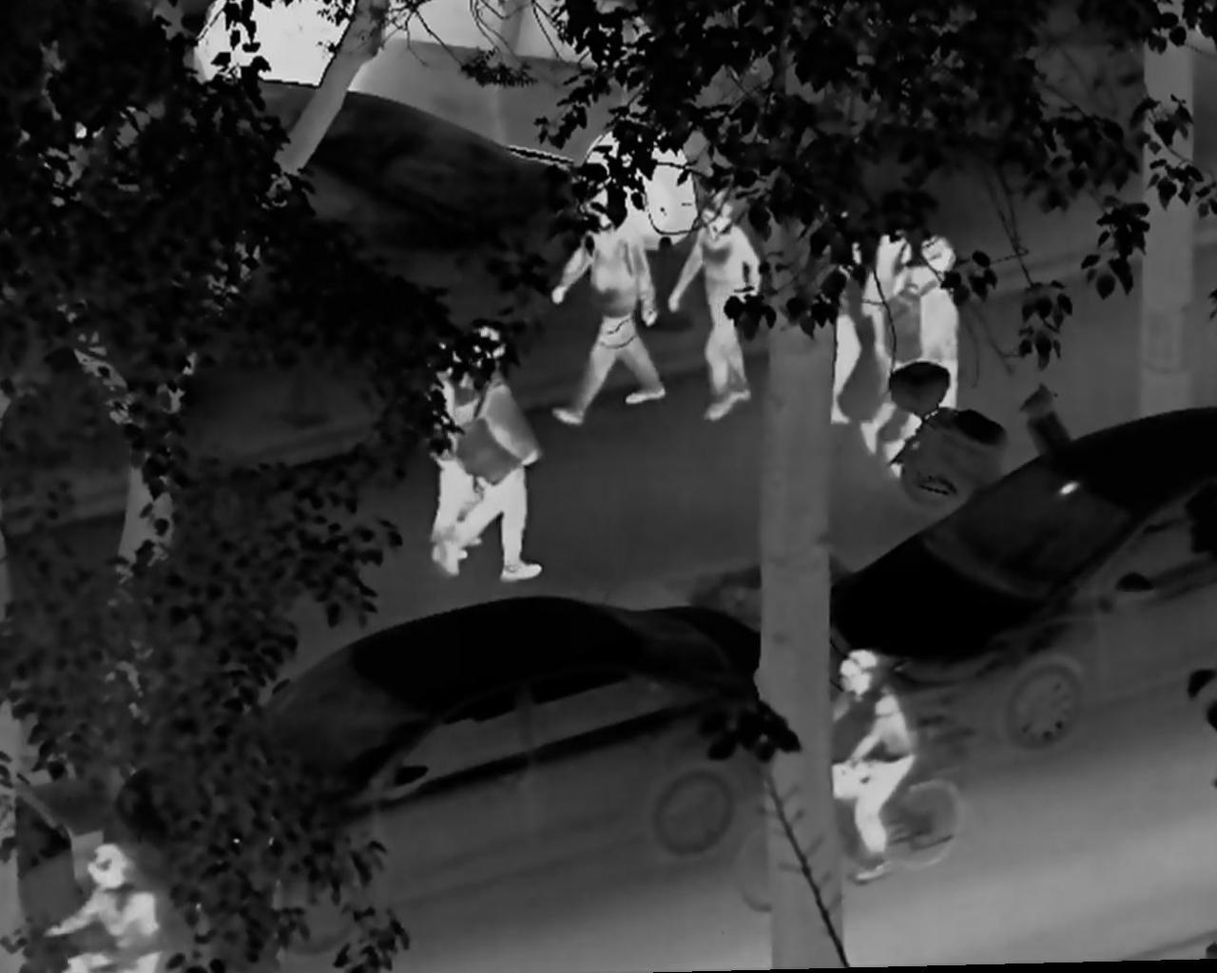person: (534, 172, 669, 429), (424, 317, 545, 587), (661, 183, 763, 425), (883, 231, 976, 488), (821, 644, 911, 889), (38, 844, 169, 973), (851, 224, 915, 458), (415, 339, 485, 547), (804, 193, 861, 427)
